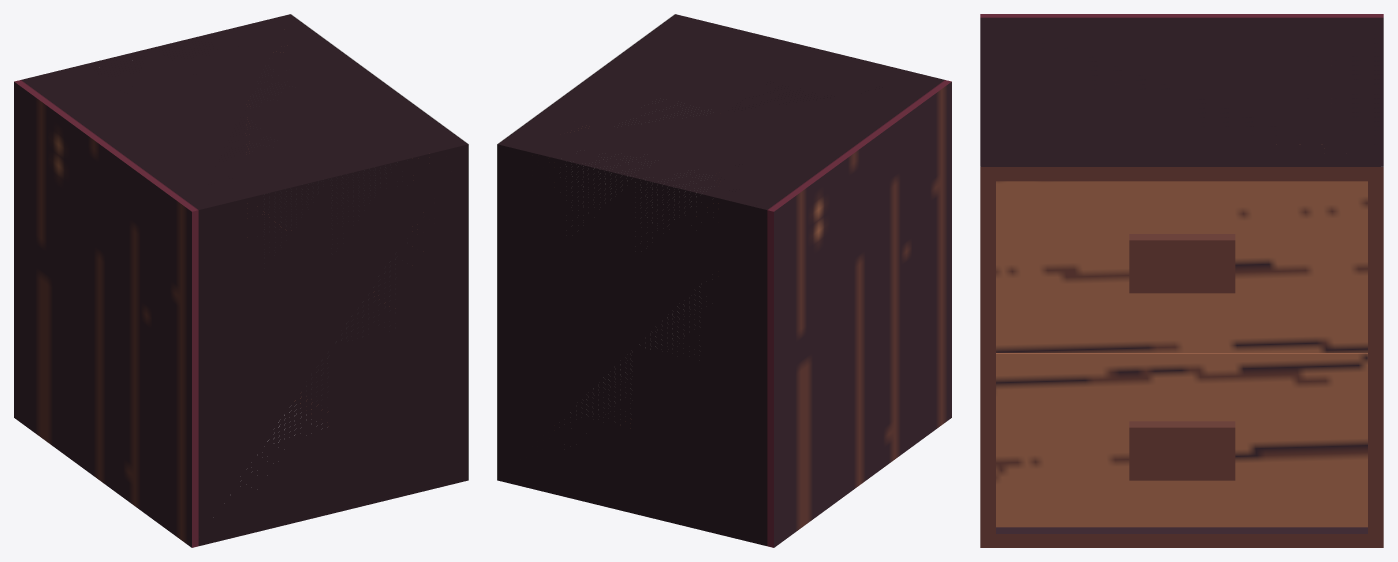
File: GabineteQuadrado.fbx
3 renders of one model, left to right at view 1: azimuth 30°, elevation 25°; view 2: azimuth 150°, elevation 25°; view 3: azimuth 270°, elevation 25°, orthographic. The views are drawn at different scales.
Visible parts, largest first — view 1: GabineteQuadrado; view 2: GabineteQuadrado; view 3: GabineteQuadrado.
Boxes of the visible parts, <box> form: GabineteQuadrado: <box>14,14,468,547</box>; GabineteQuadrado: <box>497,14,951,547</box>; GabineteQuadrado: <box>980,14,1383,547</box>.
Bounding box in the file's own units: 66.53 × 74.01 × 77.16.
